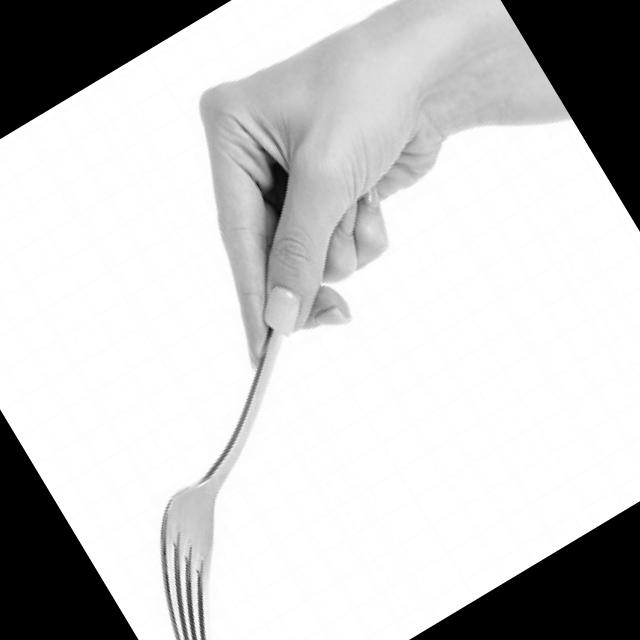fork: (3, 190, 513, 640)
